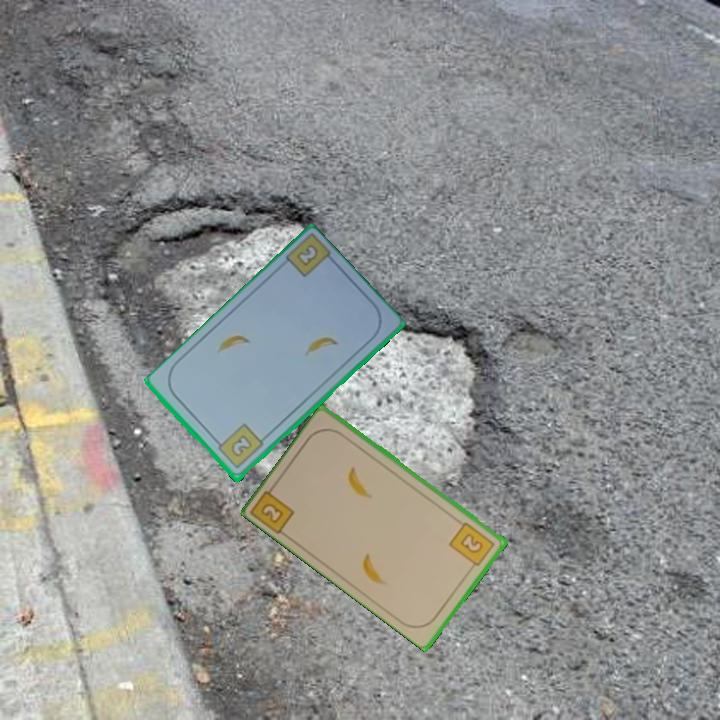2b: (211, 420, 266, 472), (446, 518, 498, 573), (249, 479, 298, 537), (293, 241, 321, 270)
